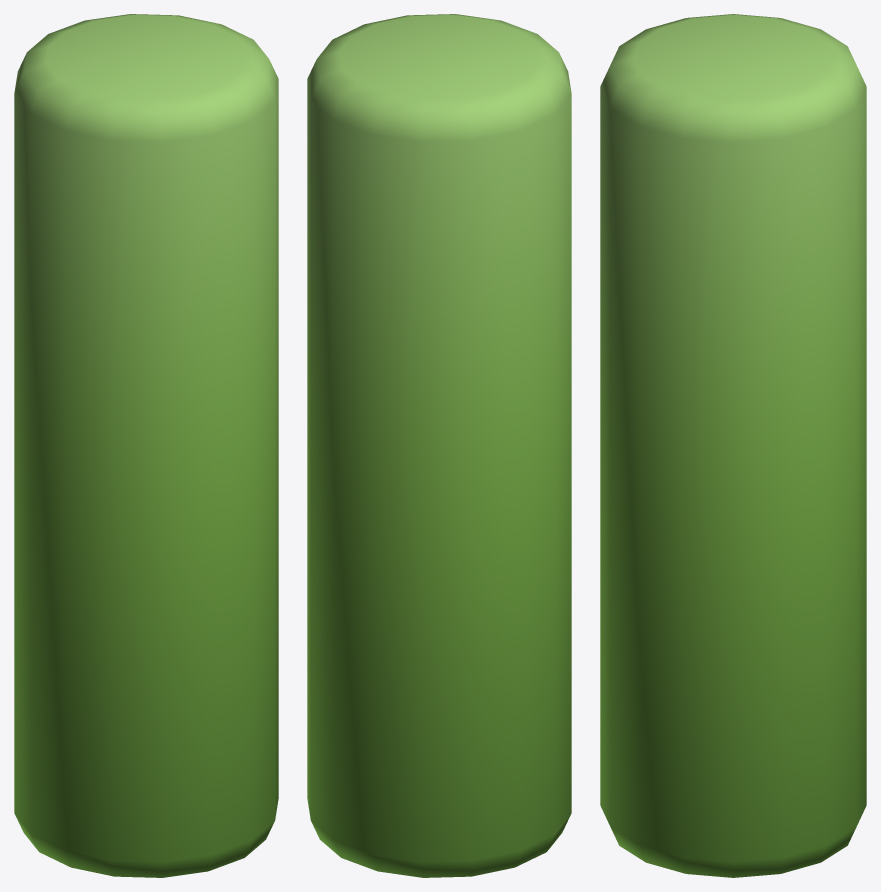
Rendered from flask_002.fbx.
3 renders of one model, left to right at view 1: azimuth 30°, elevation 25°; view 2: azimuth 150°, elevation 25°; view 3: azimuth 270°, elevation 25°, orthographic.
Visible parts, largest first — view 1: flask_002; view 2: flask_002; view 3: flask_002.
Boxes of the visible parts, x1,y1,x2,y2 form: flask_002: (14,14,278,877); flask_002: (307,14,571,877); flask_002: (600,14,866,877).
Size of the model in its own units: 248 by 248 by 799.
